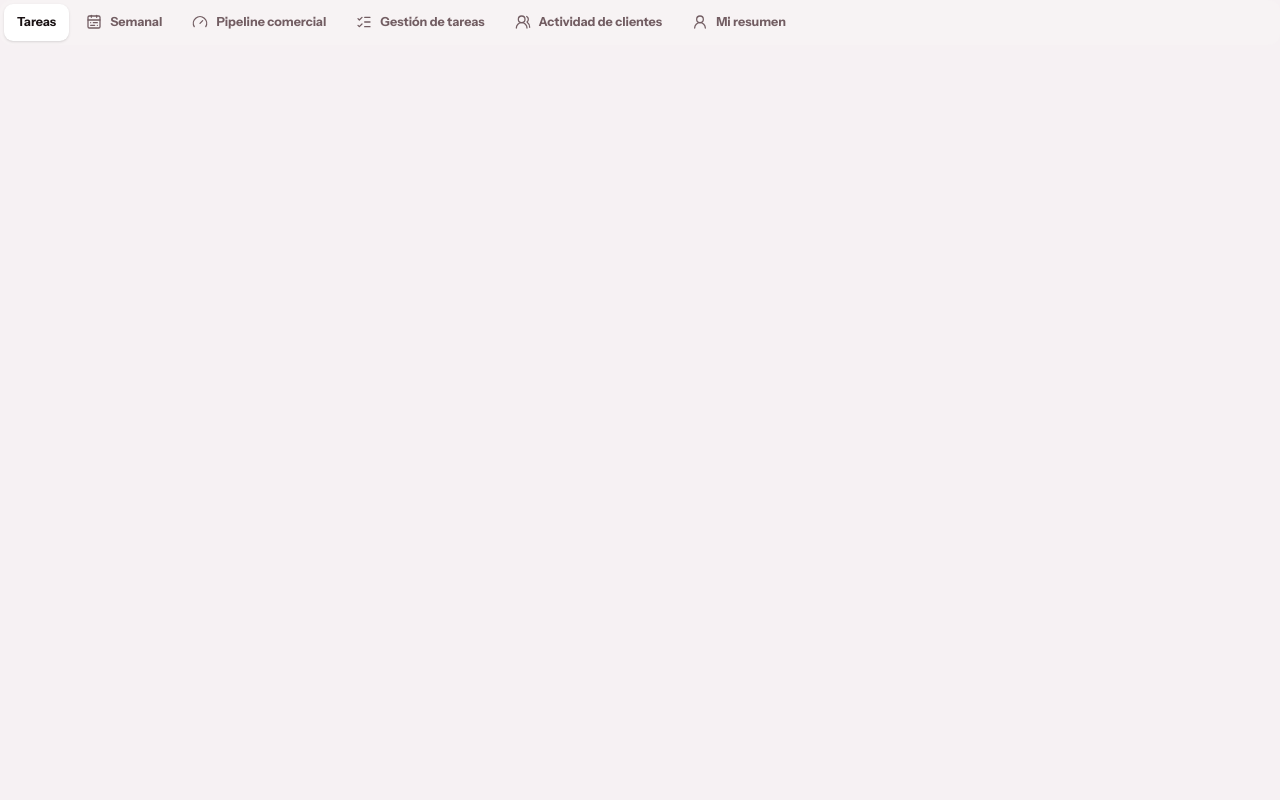
Test: ReportesPage › has a Semanal tab whose printable report opens in the same tab (S5)
Click the tab "Semanal" at x=124, y=22, box [73, 4, 175, 41]
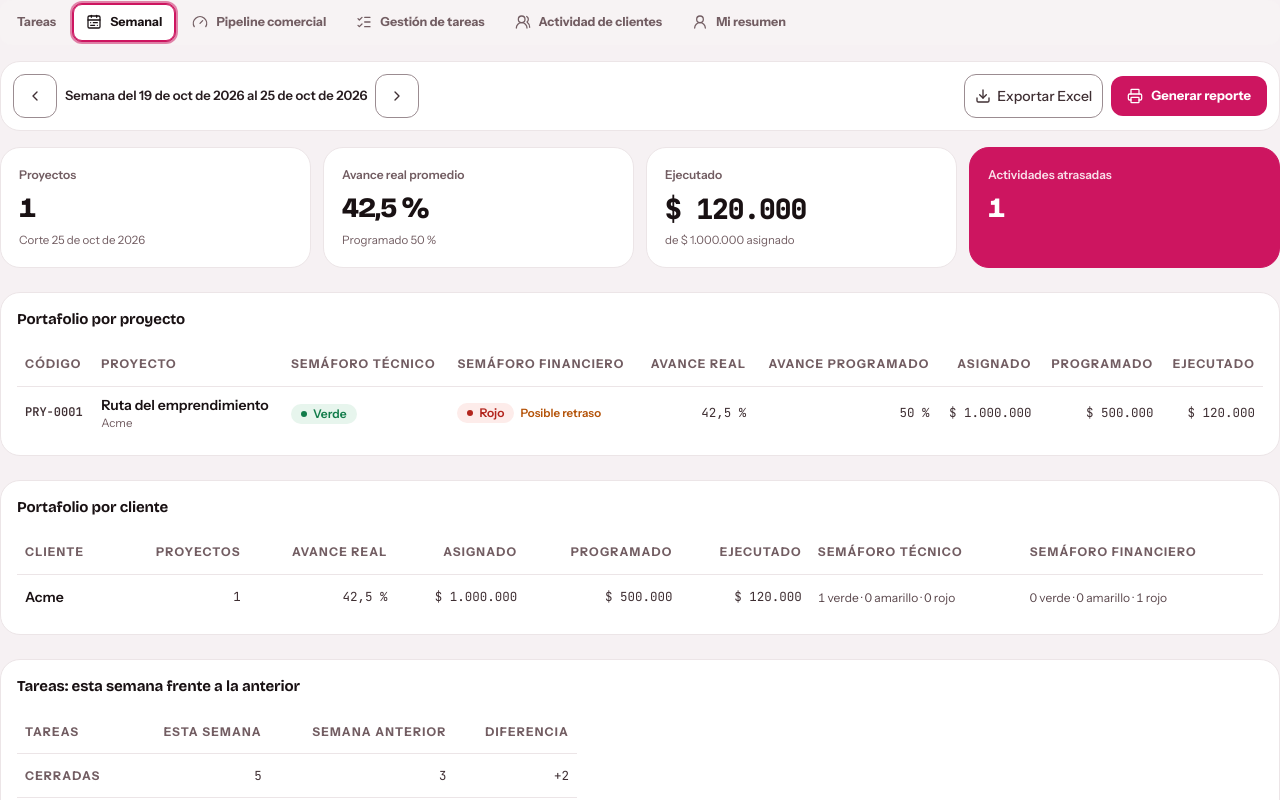
Check: the element "Portafolio por proyecto" is shown, box [0, 292, 1279, 456]
